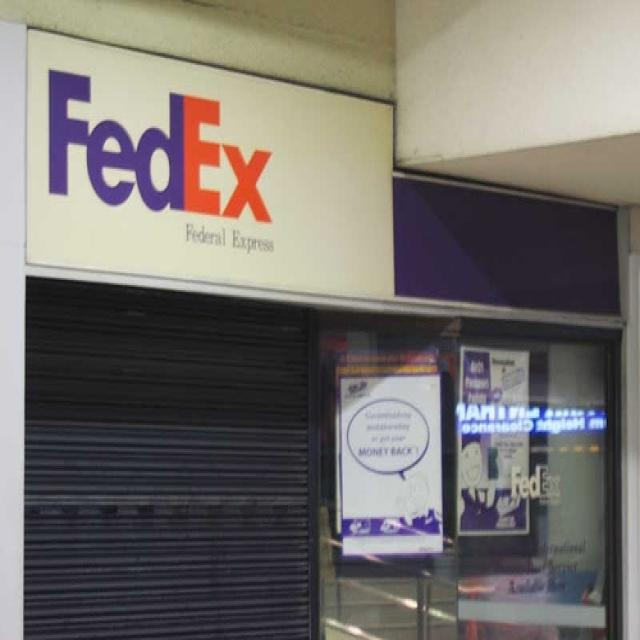fedex: (45, 61, 282, 235)
